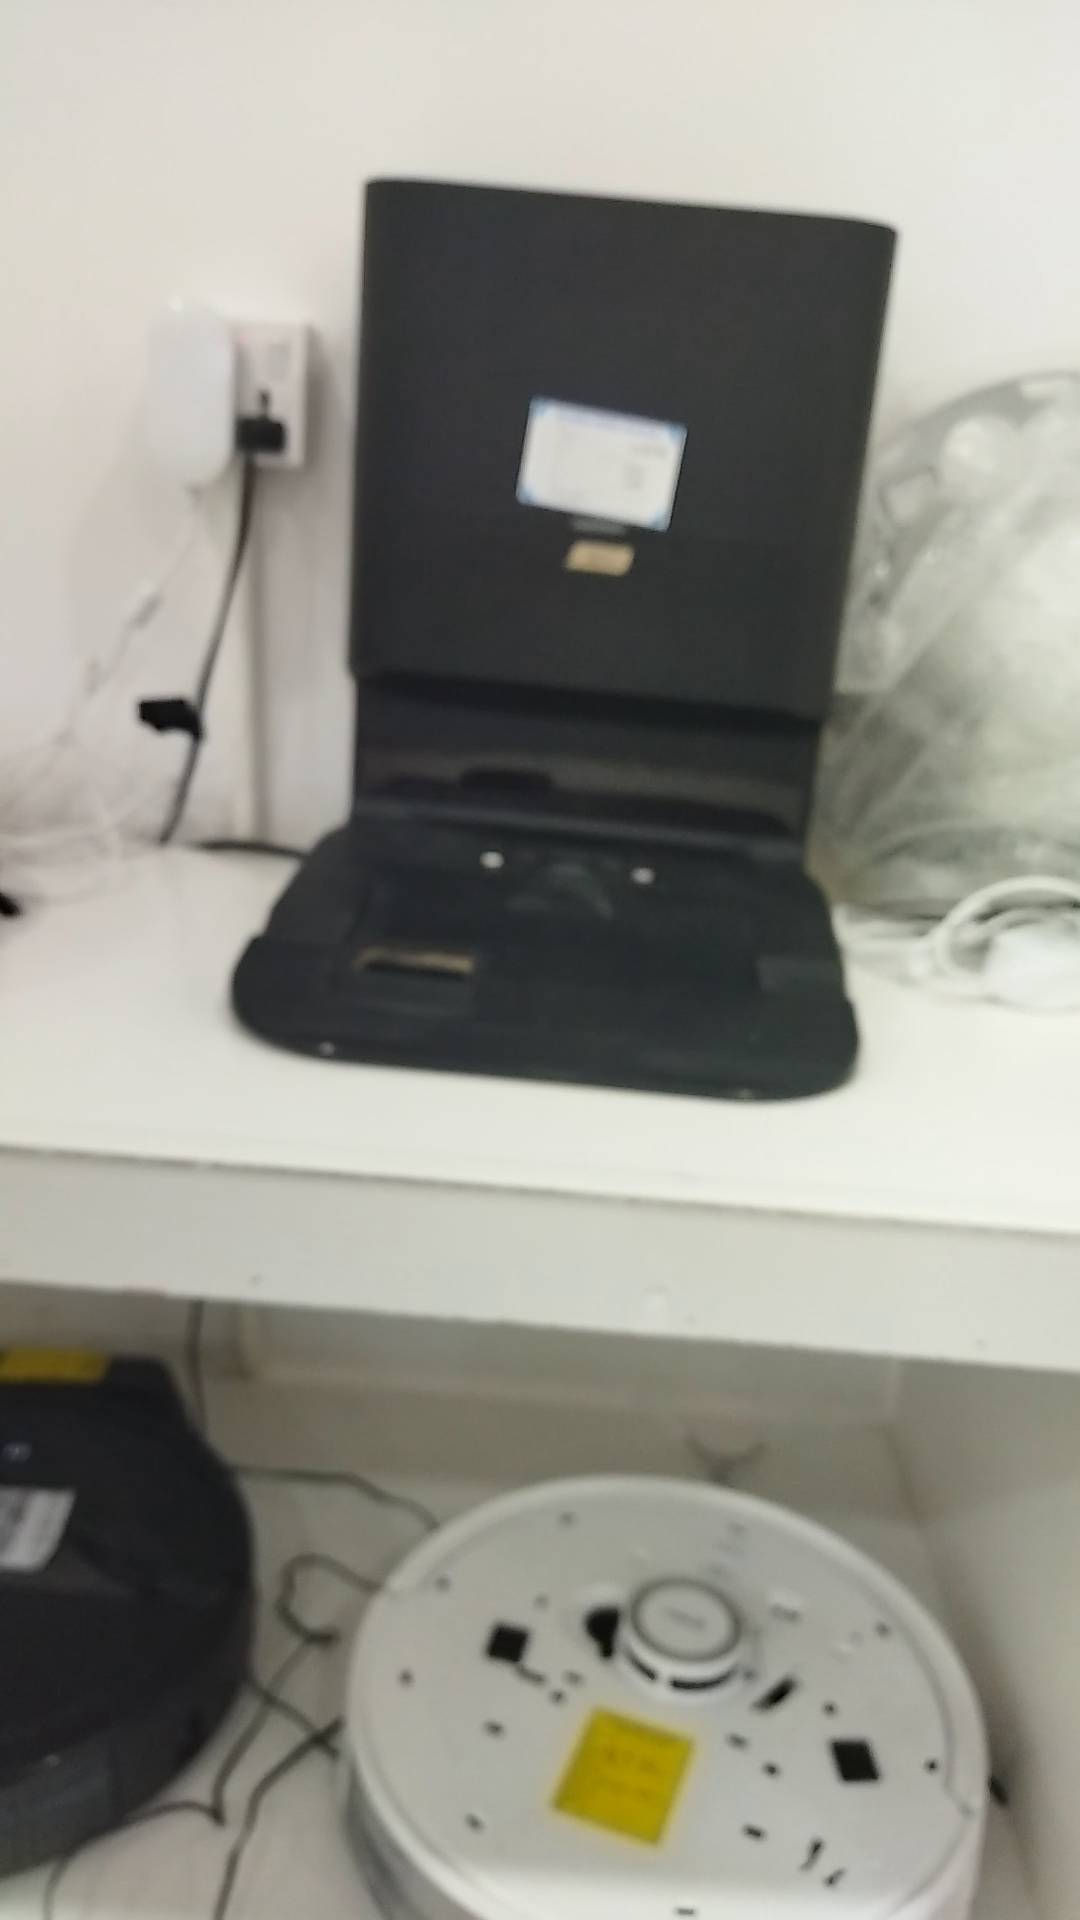dust collecting barrel: (232, 171, 899, 1104)
